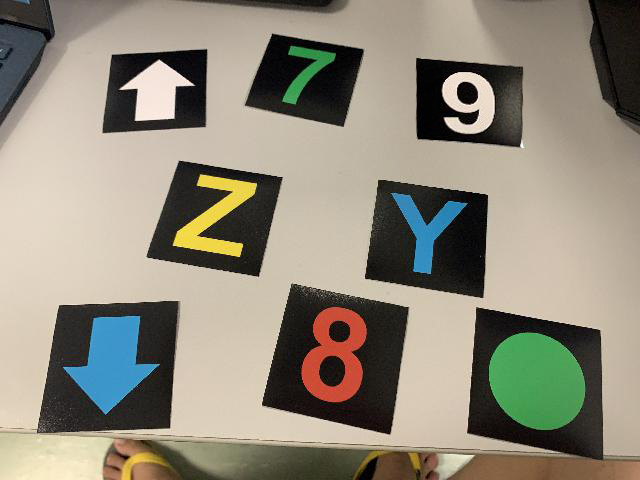alphabet_y: (370, 179, 488, 295)
alphabet_z: (147, 160, 284, 280)
down_arrow: (35, 299, 181, 431)
eight: (260, 279, 410, 435)
go: (470, 308, 603, 458)
nine: (419, 59, 521, 148)
seven: (258, 31, 354, 119)
up_arrow: (105, 49, 208, 131)
